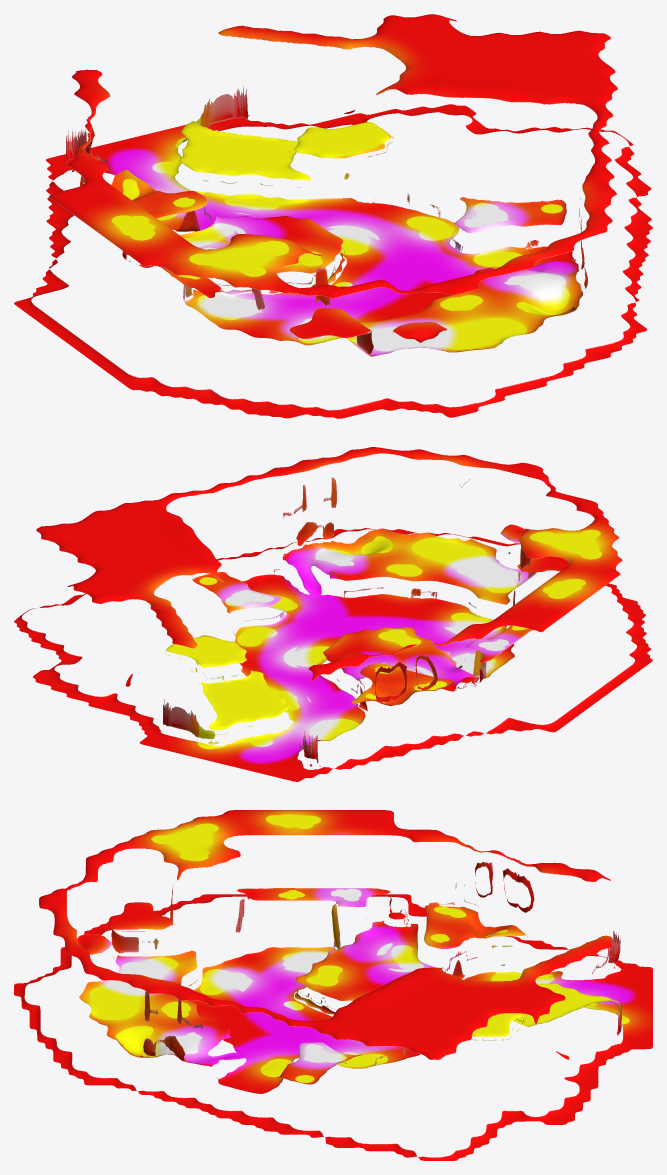
File: SM_TerrainNiveau1 1.fbx
3 views of the same model, one above another, from view 1: azimuth 30°, elevation 25°; view 2: azimuth 150°, elevation 25°; view 3: azimuth 270°, elevation 25° (orthographic). The views are drawn at different scales.
Parts seen in each view (by area): view 1: Terrain; view 2: Terrain; view 3: Terrain.
Boxes of the visible parts, x1=… form: Terrain: x1=14, y1=14, x2=652, y2=418; Terrain: x1=14, y1=447, x2=652, y2=781; Terrain: x1=14, y1=810, x2=652, y2=1160.
Bounding box in the file's own units: 10956 × 1902 × 11086.
